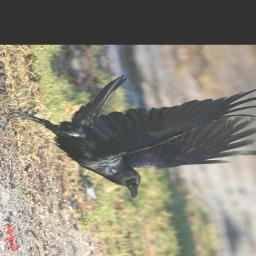Crow: (0, 60, 256, 209)
